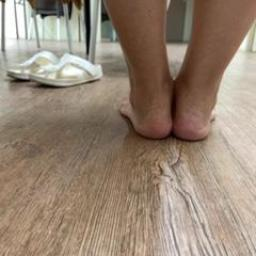Back View -Both Feet-: (109, 61, 232, 148)
